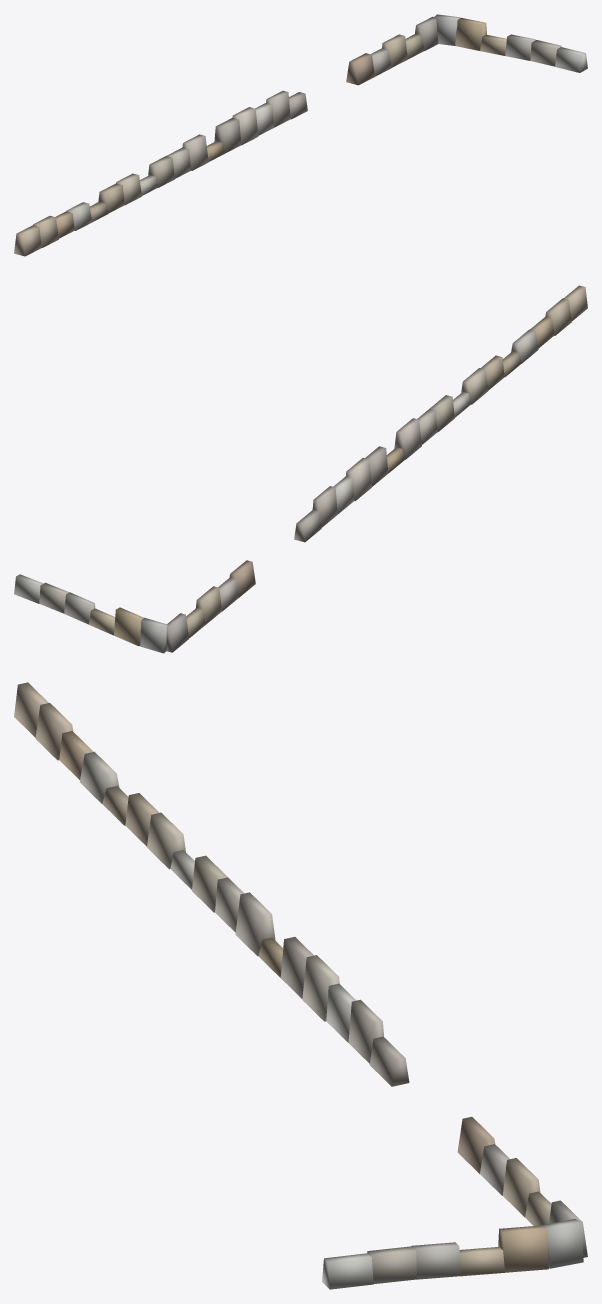
The model's file is farm_1_11_collision.glb.
3 renders of one model, top to bottom at view 1: azimuth 30°, elevation 25°; view 2: azimuth 210°, elevation 25°; view 3: azimuth 270°, elevation 25°, orthographic. The views are drawn at different scales.
Visible parts, largest first — view 1: geometry_0; view 2: geometry_0; view 3: geometry_0.
Part boxes in pixels (left/top/right/bottom): geometry_0: left=14, top=14, right=587, bottom=256; geometry_0: left=14, top=285, right=587, bottom=653; geometry_0: left=14, top=682, right=587, bottom=1289.
Size of the model in its own units: 39 by 4.75 by 18.93.
